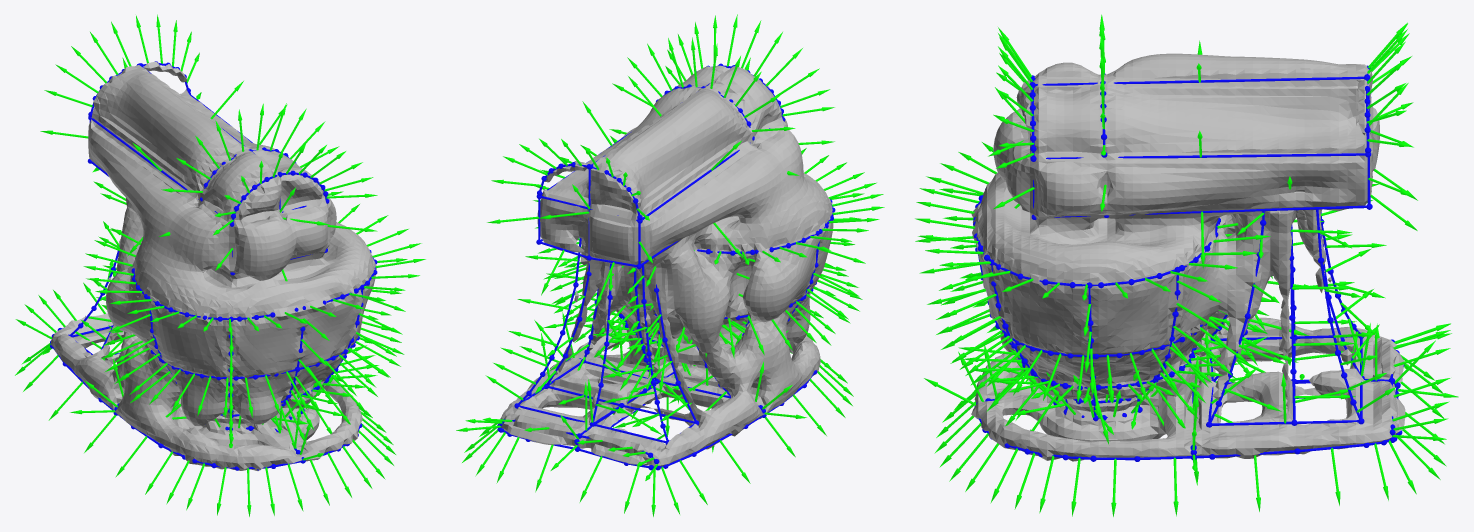
Rendered from t2f_blender.gltf.
3 views of the same model, side by side, from view 1: azimuth 30°, elevation 25°; view 2: azimuth 150°, elevation 25°; view 3: azimuth 270°, elevation 25° (orthographic). The views are drawn at different scales.
Size of the model in its own units: 0.6599 by 0.7512 by 0.8629.
